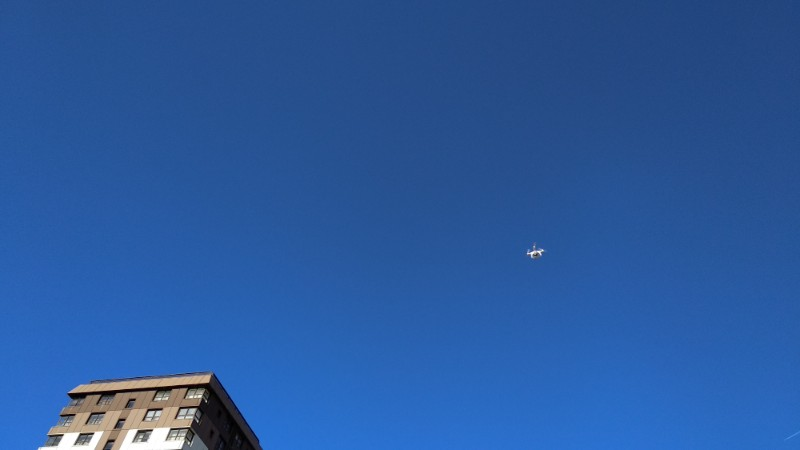drone: (525, 241, 546, 262)
